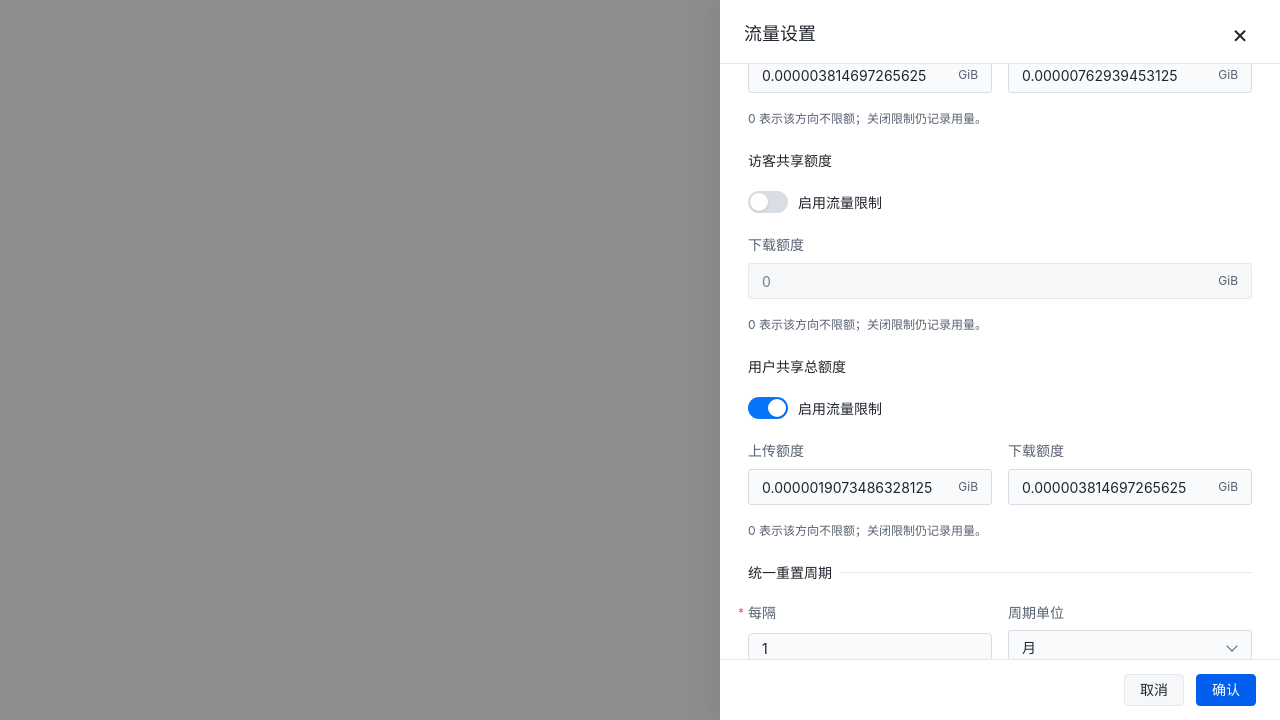
Test case: TrafficPanel › keeps the settings drawer open on save failure and permits a corrected retry
(page scrolled)
Submit the form
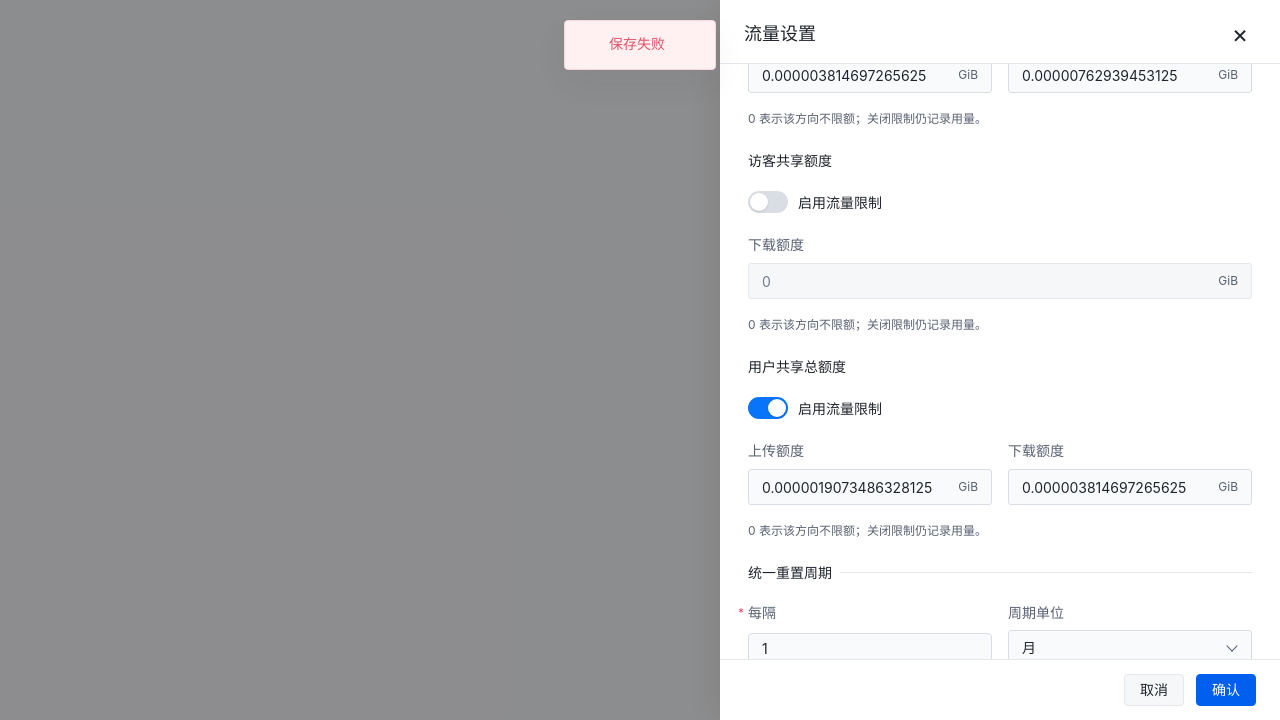
Expected: the dialog with class "settings-drawer" is shown, [720,0,1279,719]
Expected: the message "保存失败" is shown, [564,20,716,70]
Replace the text in the number field labelled "每隔" with "2" at (870, 648), box [748,632,992,664]
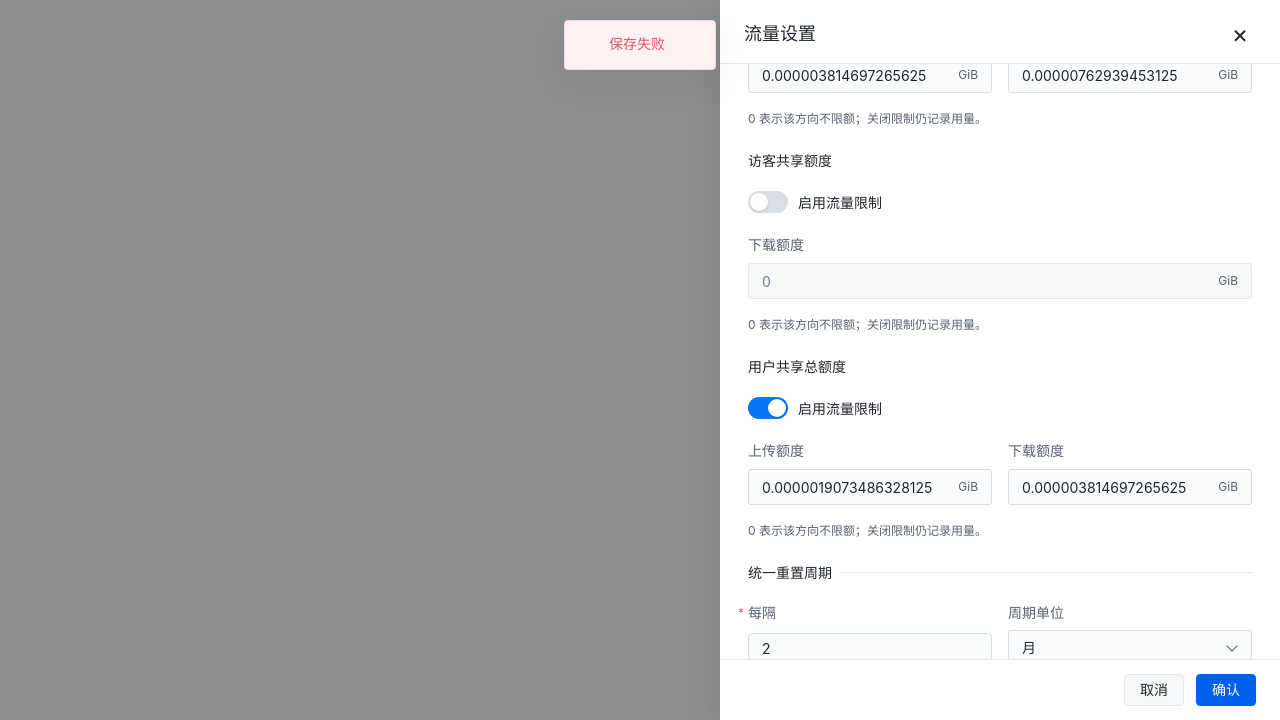
Submit the form
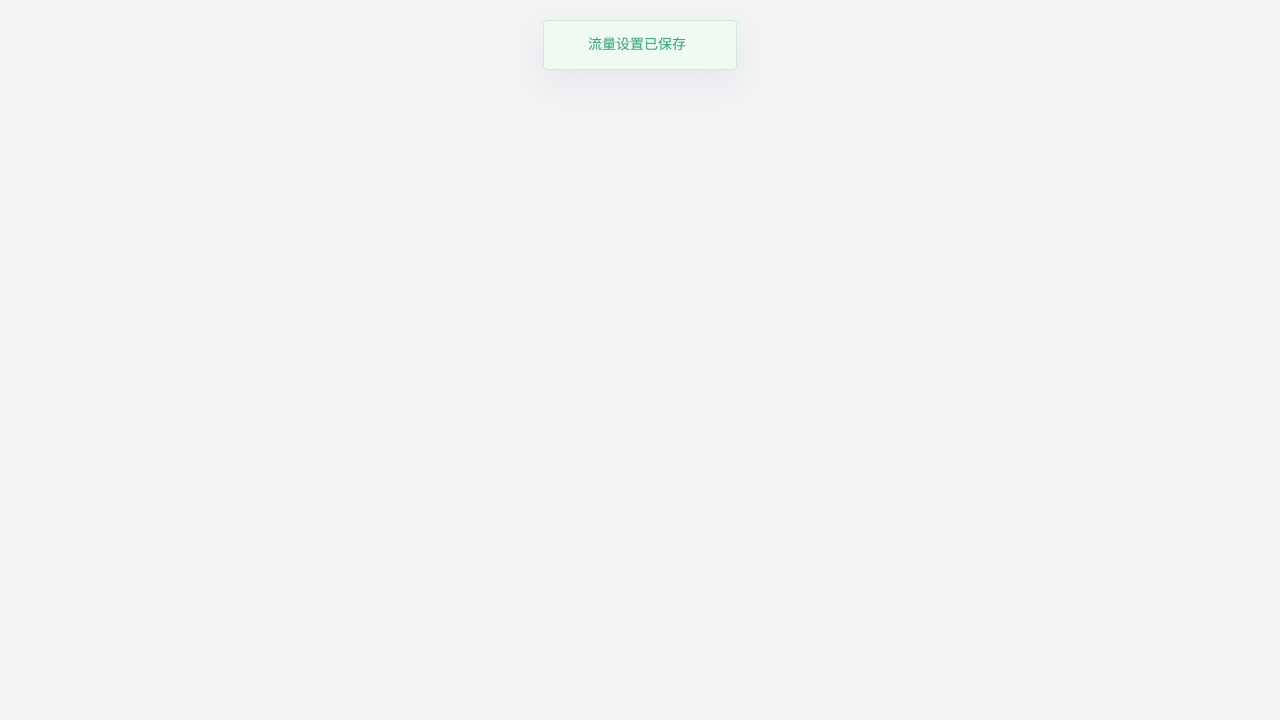
Expected: the dialog with class "settings-drawer" is gone
